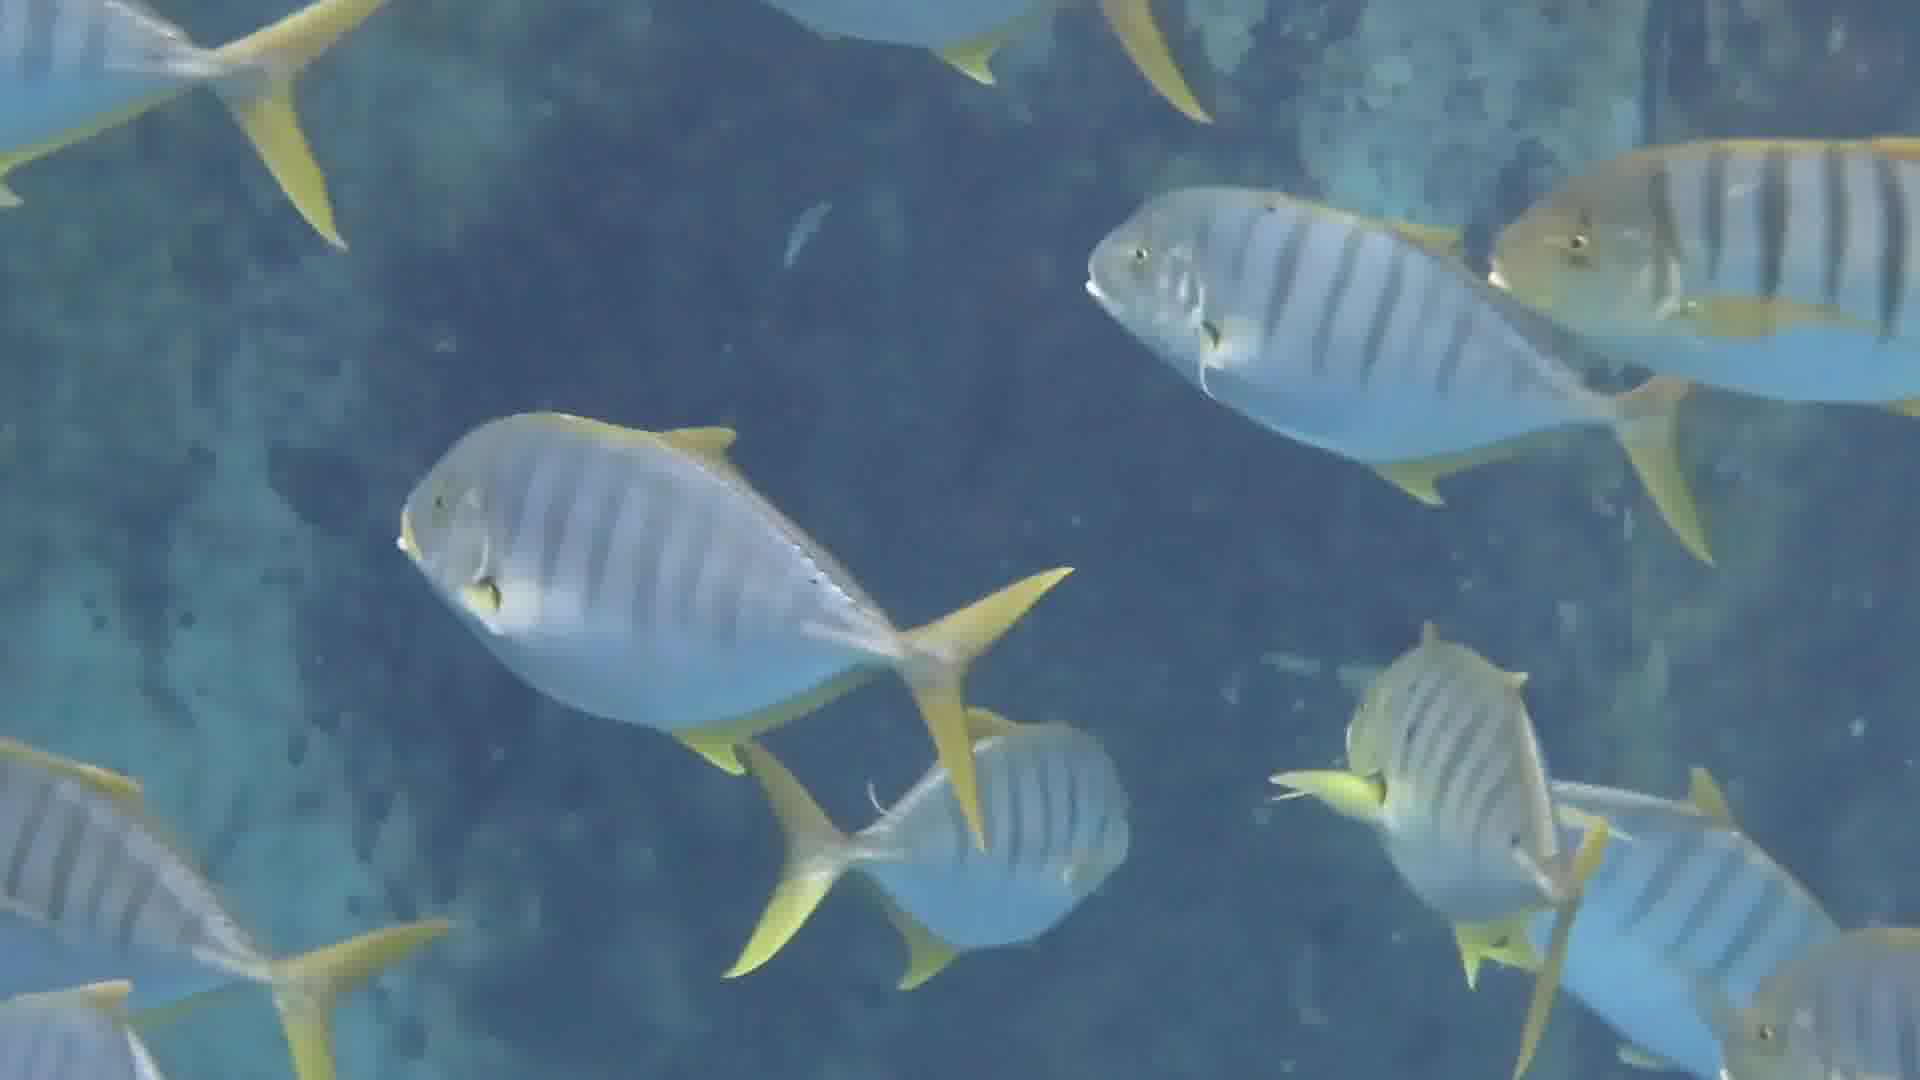Gnathanodon speciosus: (386, 369, 976, 800), (1068, 173, 1676, 535), (1461, 119, 1920, 415), (1323, 644, 1565, 982)
